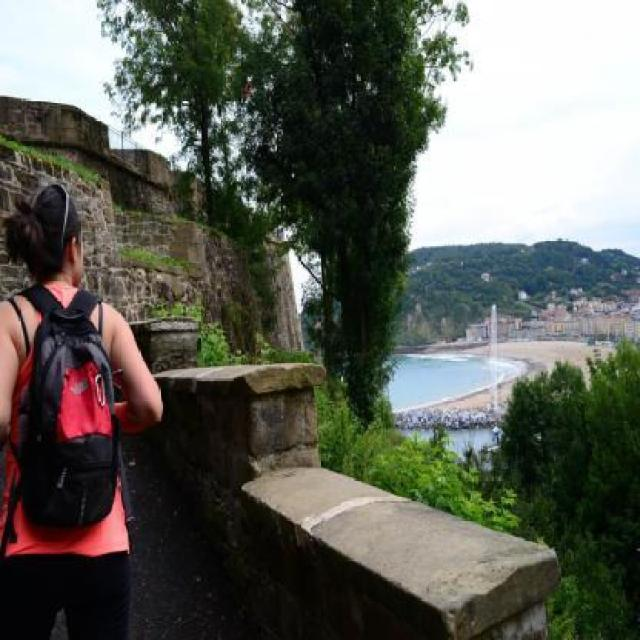backpack: (11, 283, 123, 532)
